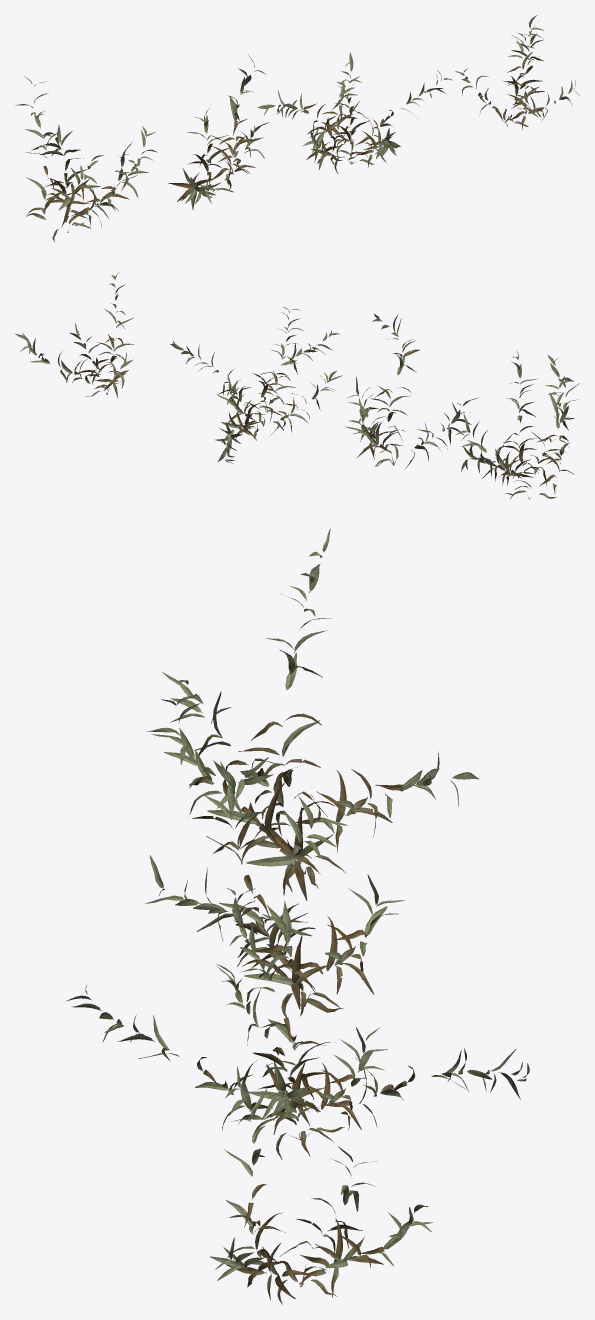
Rendered from shrub_02.53b3f200.glb.
3 renders of one model, top to bottom at view 1: azimuth 30°, elevation 25°; view 2: azimuth 150°, elevation 25°; view 3: azimuth 270°, elevation 25°, orthographic. The views are drawn at different scales.
Parts seen in each view (by area): view 1: shrub_02_c, shrub_02_a, shrub_02_b, shrub_02_d; view 2: shrub_02_c, shrub_02_a, shrub_02_b, shrub_02_d; view 3: shrub_02_a, shrub_02_c, shrub_02_b, shrub_02_d.
Part boxes in pixels (x1,y1,x2,y2): shrub_02_c: (257, 52, 452, 174); shrub_02_a: (15, 76, 157, 242); shrub_02_b: (168, 55, 268, 209); shrub_02_d: (455, 15, 580, 129); shrub_02_c: (170, 307, 342, 463); shrub_02_a: (456, 350, 579, 499); shrub_02_b: (345, 313, 478, 468); shrub_02_d: (15, 272, 134, 398); shrub_02_a: (146, 528, 479, 900); shrub_02_c: (66, 888, 529, 1159); shrub_02_b: (145, 757, 404, 1017); shrub_02_d: (210, 1066, 432, 1304).
Bounding box in the file's own units: 6.05 × 1.7 × 2.29.
Materials: 1 (1 with a texture image).
